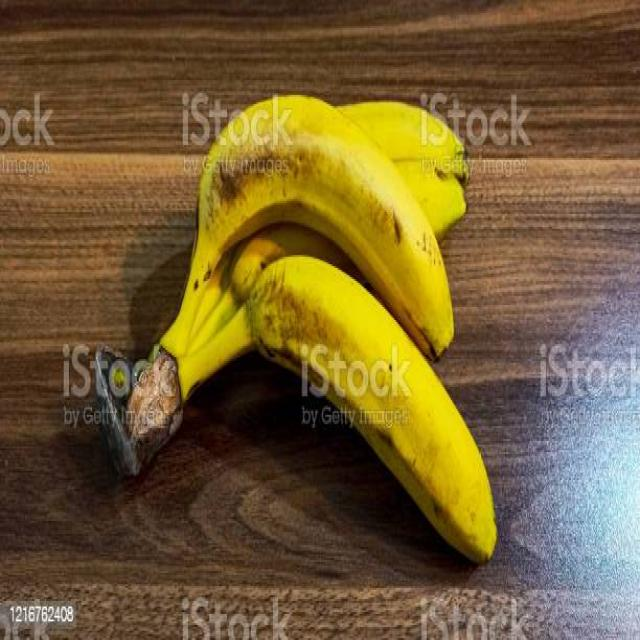banana: (87, 83, 502, 570)
